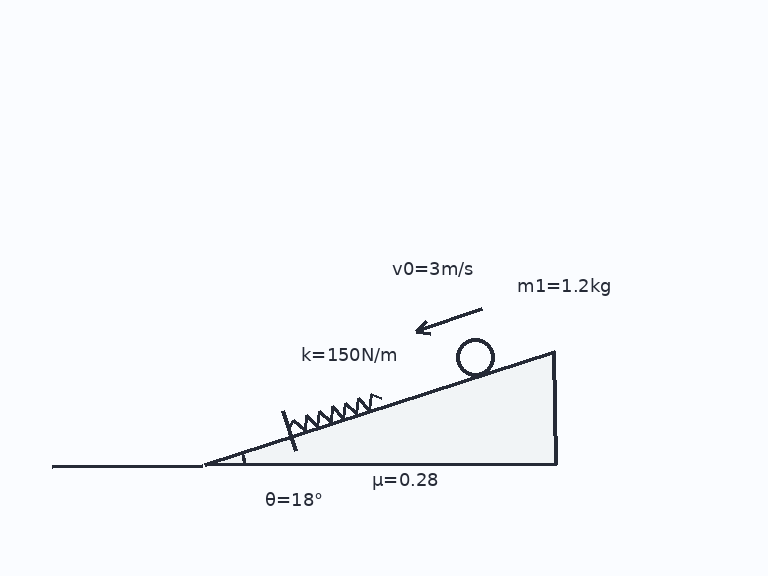ball: (454, 336, 496, 378)
ramp: (202, 349, 557, 467)
spring: (287, 392, 382, 432)
